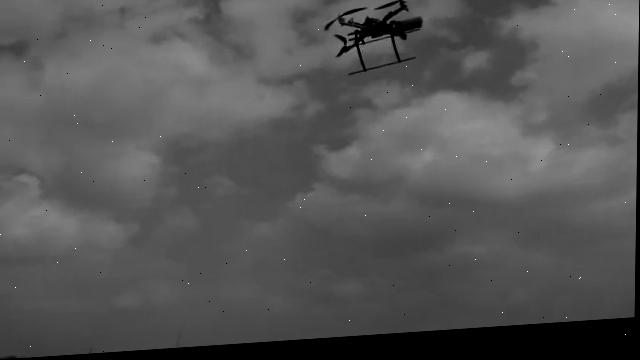drone: (319, 0, 431, 83)
